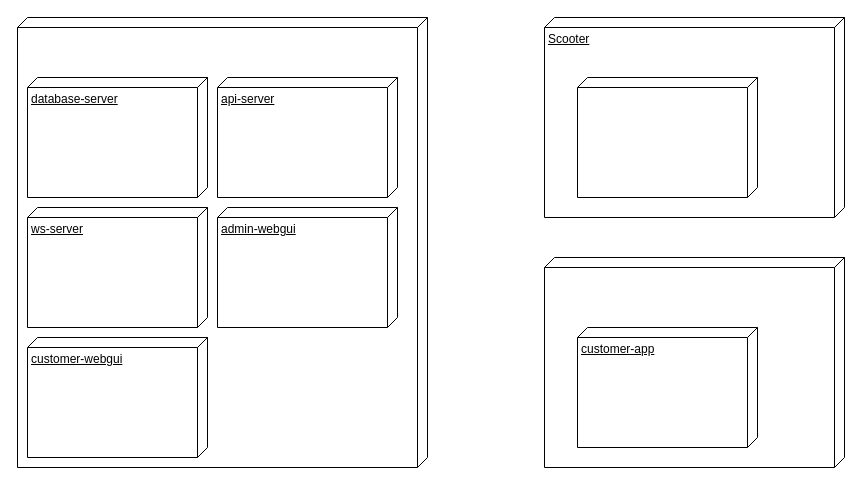
This 862x485 diagram has some shape labels left out. The box of each missing label's shape, as (x1, y1, x2, y2) in pixels:
Backend server: (16, 16, 428, 468)
Customers smartphone: (544, 256, 844, 468)
scooter-app: (576, 76, 758, 198)
